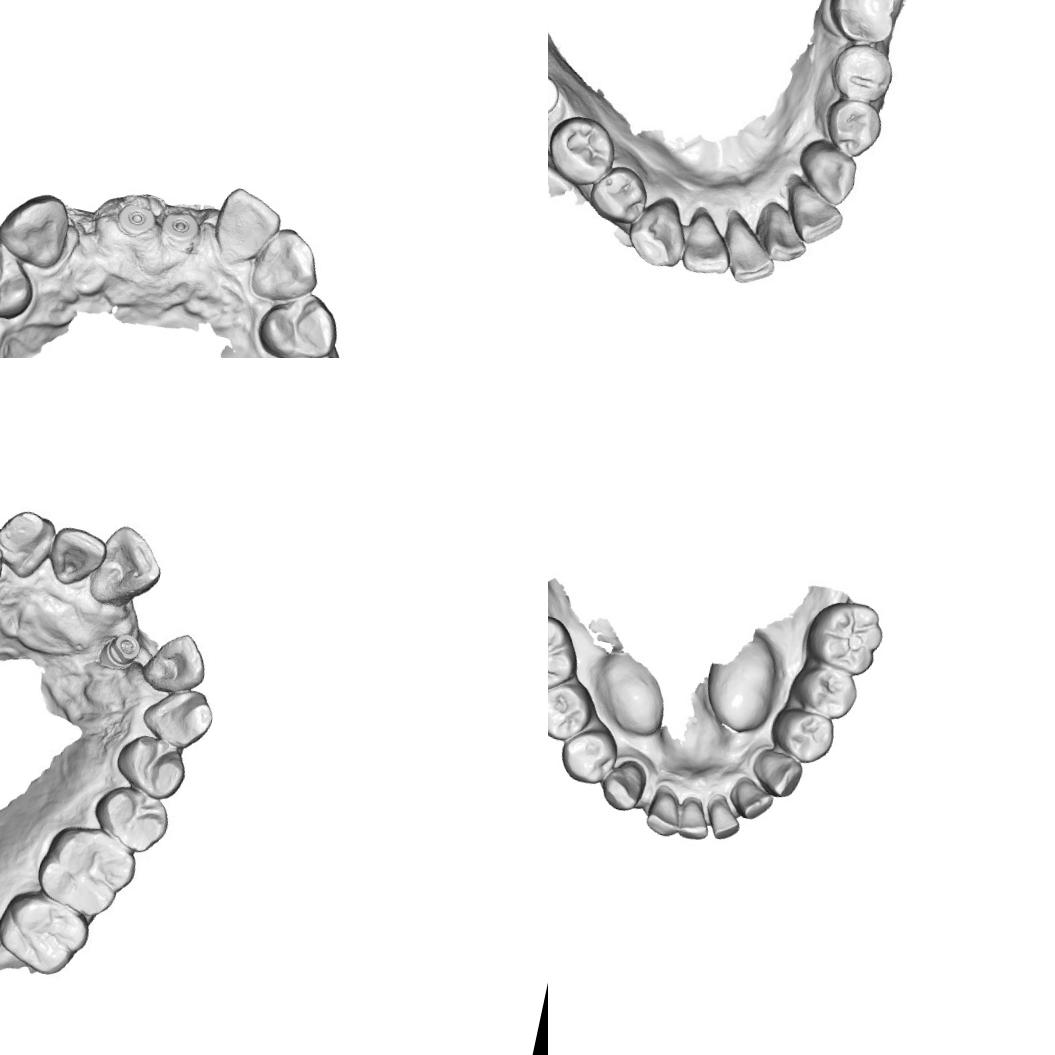canine: (246, 220, 328, 310), (0, 183, 78, 273), (137, 680, 216, 753), (624, 191, 692, 272), (0, 503, 59, 585), (793, 137, 862, 206), (596, 753, 650, 815), (748, 747, 807, 803)
implant: (90, 622, 150, 681), (156, 206, 199, 248), (115, 198, 156, 240), (548, 66, 566, 126)
incisor: (206, 181, 285, 271), (90, 522, 165, 612), (714, 210, 784, 288), (780, 177, 848, 250), (146, 624, 208, 701), (677, 204, 738, 280), (46, 521, 108, 592), (757, 206, 811, 268), (641, 787, 686, 840), (729, 777, 778, 825), (703, 798, 745, 844), (675, 798, 714, 844)
molar: (36, 823, 142, 924), (0, 882, 98, 983), (799, 592, 892, 680), (548, 605, 589, 703), (831, 0, 904, 46)
premolar: (84, 779, 178, 859), (252, 285, 342, 358), (110, 730, 194, 804), (548, 113, 616, 188), (764, 702, 839, 770), (554, 719, 625, 790), (585, 157, 652, 229), (788, 659, 862, 724), (822, 98, 890, 164), (831, 40, 897, 108), (548, 674, 600, 749), (0, 233, 42, 322)
